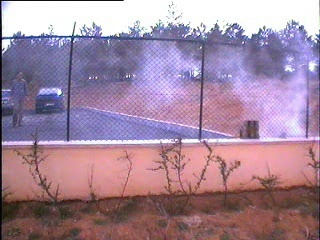smoke: (211, 27, 313, 138)
